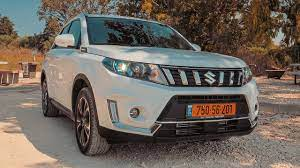licence: (184, 100, 237, 121)
